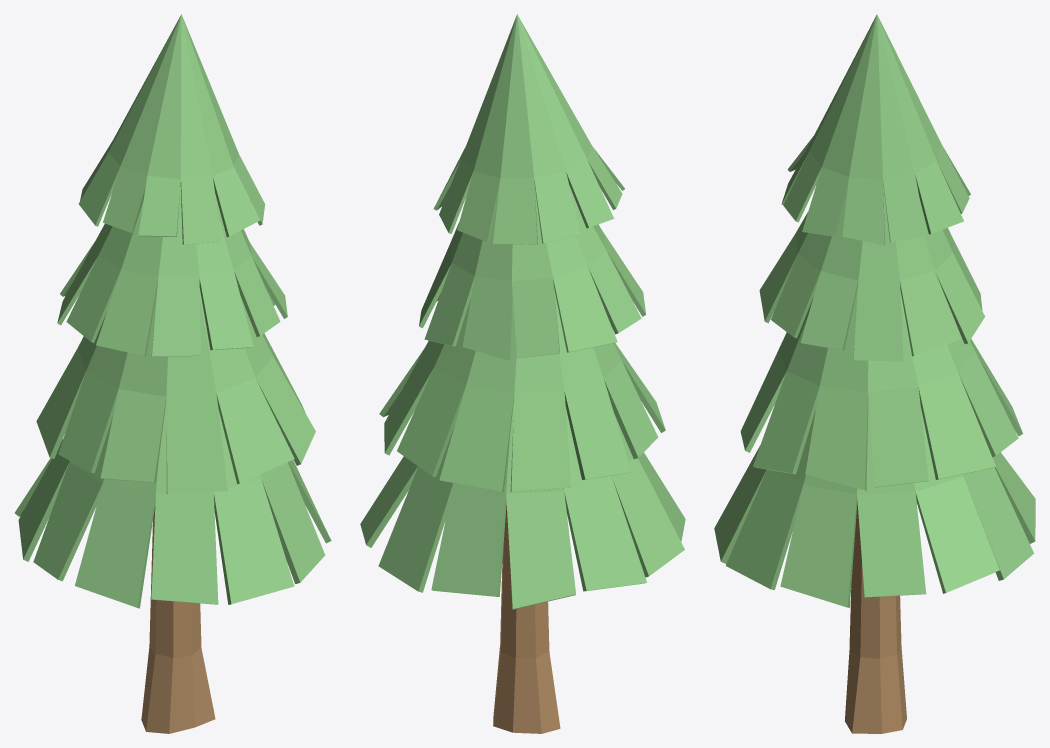
File: tree008.gltf
3 renders of one model, left to right at view 1: azimuth 30°, elevation 25°; view 2: azimuth 150°, elevation 25°; view 3: azimuth 270°, elevation 25°, orthographic.
Visible parts, largest first — view 1: node_tree008_-198474; view 2: node_tree008_-198474; view 3: node_tree008_-198474.
Boxes of the visible parts, <box> form: node_tree008_-198474: <box>15,14,331,733</box>; node_tree008_-198474: <box>360,14,685,733</box>; node_tree008_-198474: <box>714,14,1035,733</box>.
Bounding box in the file's own units: 2.25 × 5.6 × 2.29.
